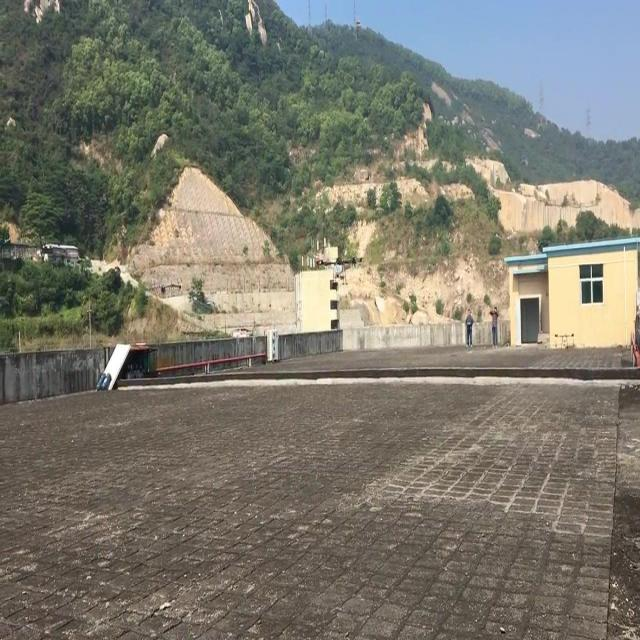UAV: (316, 257, 364, 285)
